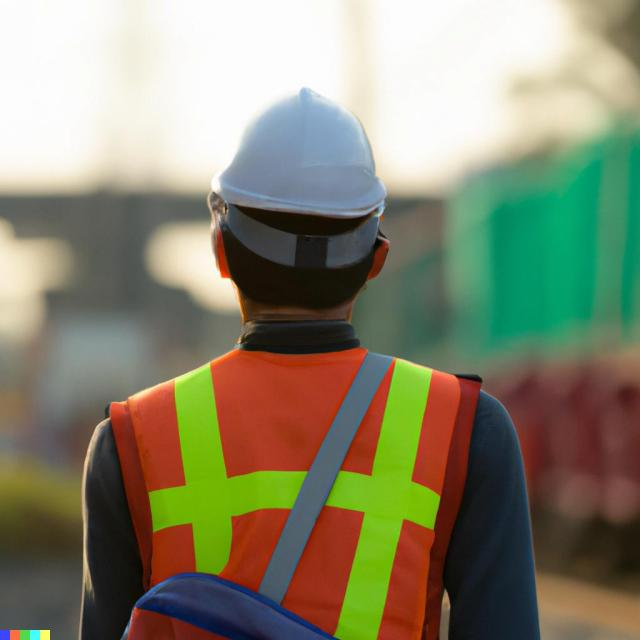Reflective-Jacket: (98, 335, 498, 640)
Safety-Helmet: (202, 84, 394, 226)
